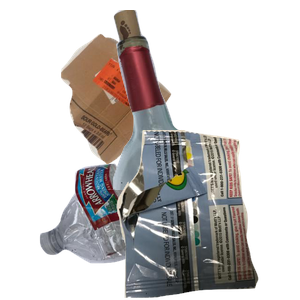cardboard: (58, 31, 222, 188)
glass: (89, 10, 300, 190)
plastic: (37, 144, 265, 300)
trash: (114, 130, 300, 300)
